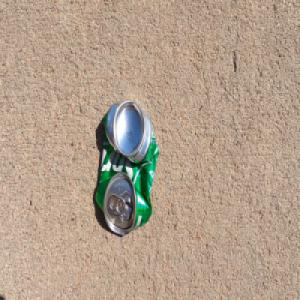SodaCan: (94, 99, 159, 237)
